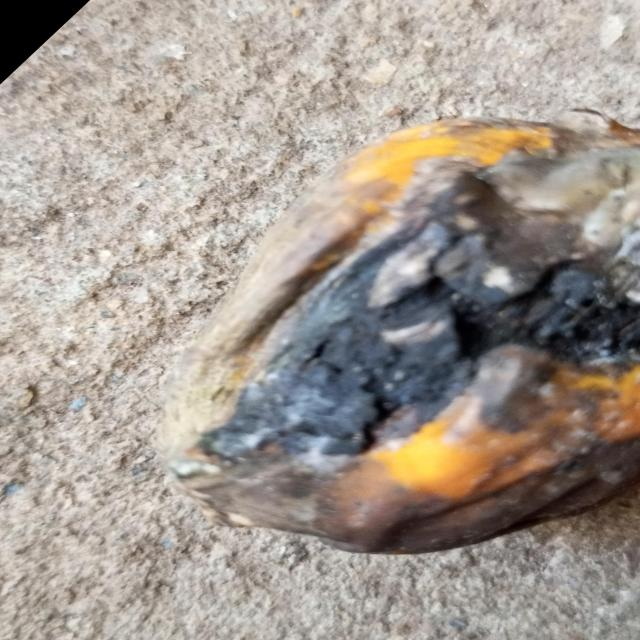damaged: (155, 112, 640, 559)
